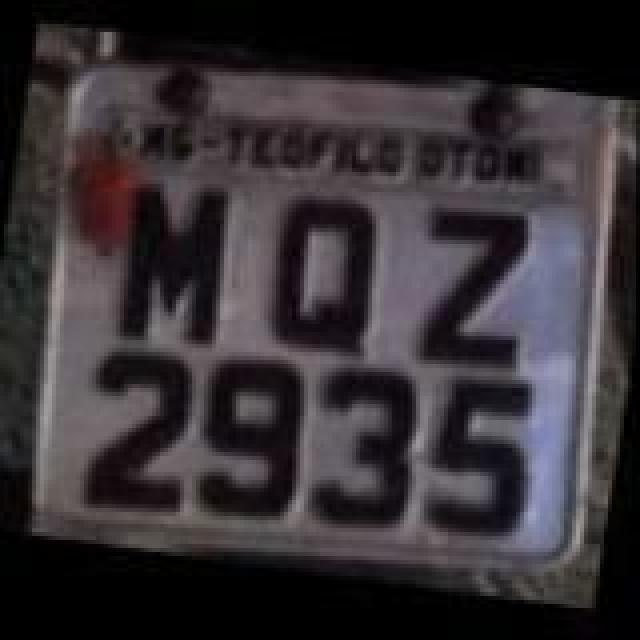2: (70, 344, 206, 520)
3: (294, 354, 438, 546)
5: (412, 368, 552, 556)
9: (178, 346, 322, 530)
M: (104, 174, 240, 350)
Q: (262, 190, 394, 366)
Z: (406, 198, 546, 374)
